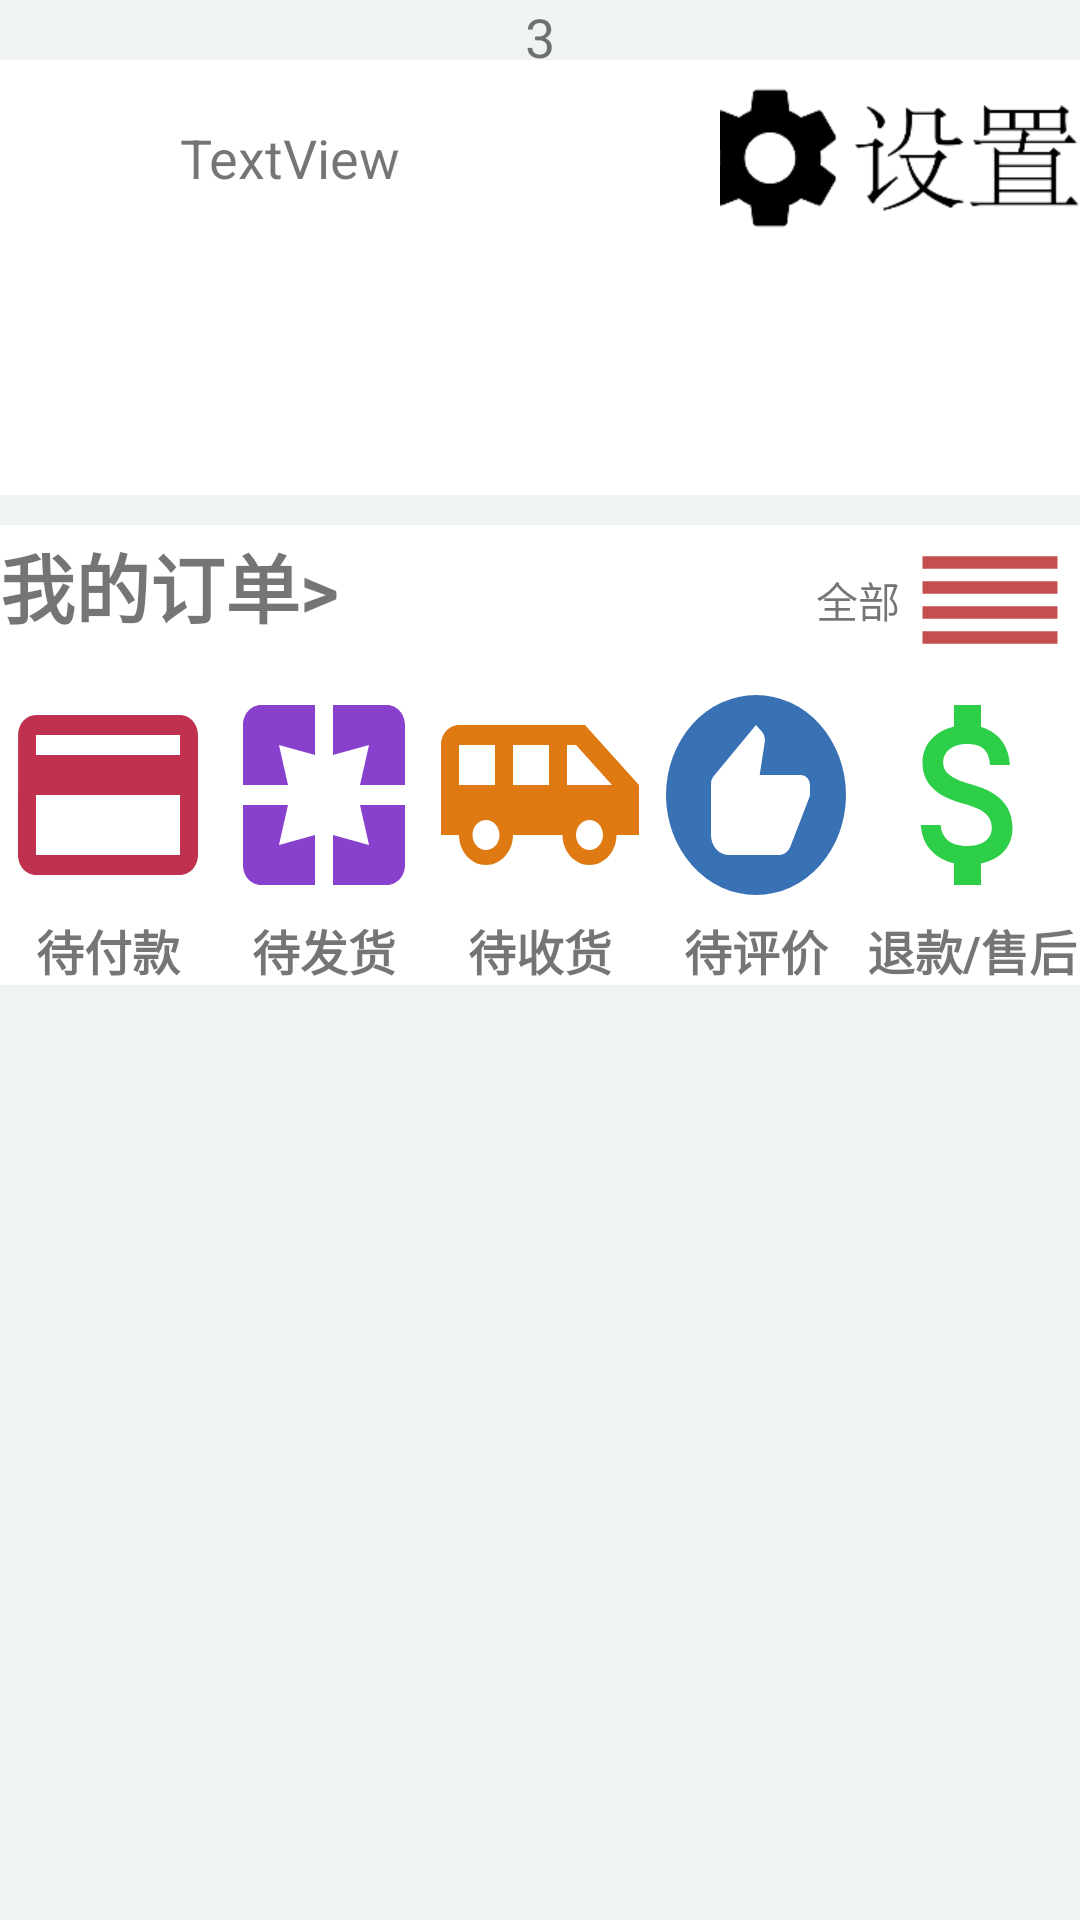

Point at icon controls on the screen. Image size 1080*1920, points as (x=x, y=y).
airport shuttle: (x=540, y=795)
attach money: (x=967, y=795)
payment: (x=108, y=795)
recommend: (x=756, y=795)
reorder: (x=990, y=600)
